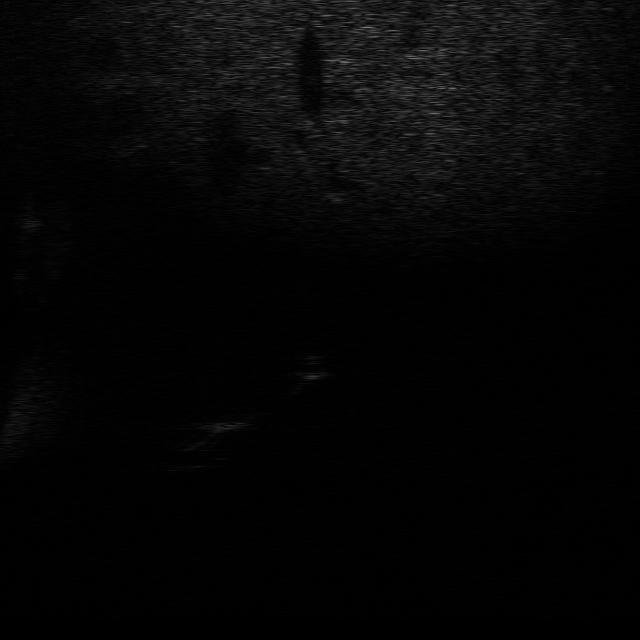ball: (279, 348, 335, 382)
square cage: (182, 402, 260, 440)
tyre: (145, 434, 224, 477)
